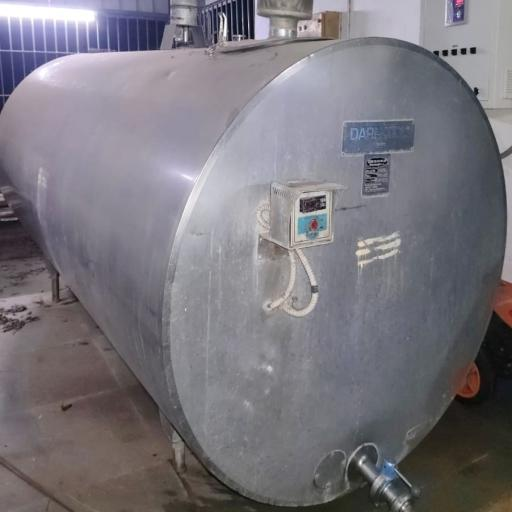silo: (0, 34, 509, 509)
